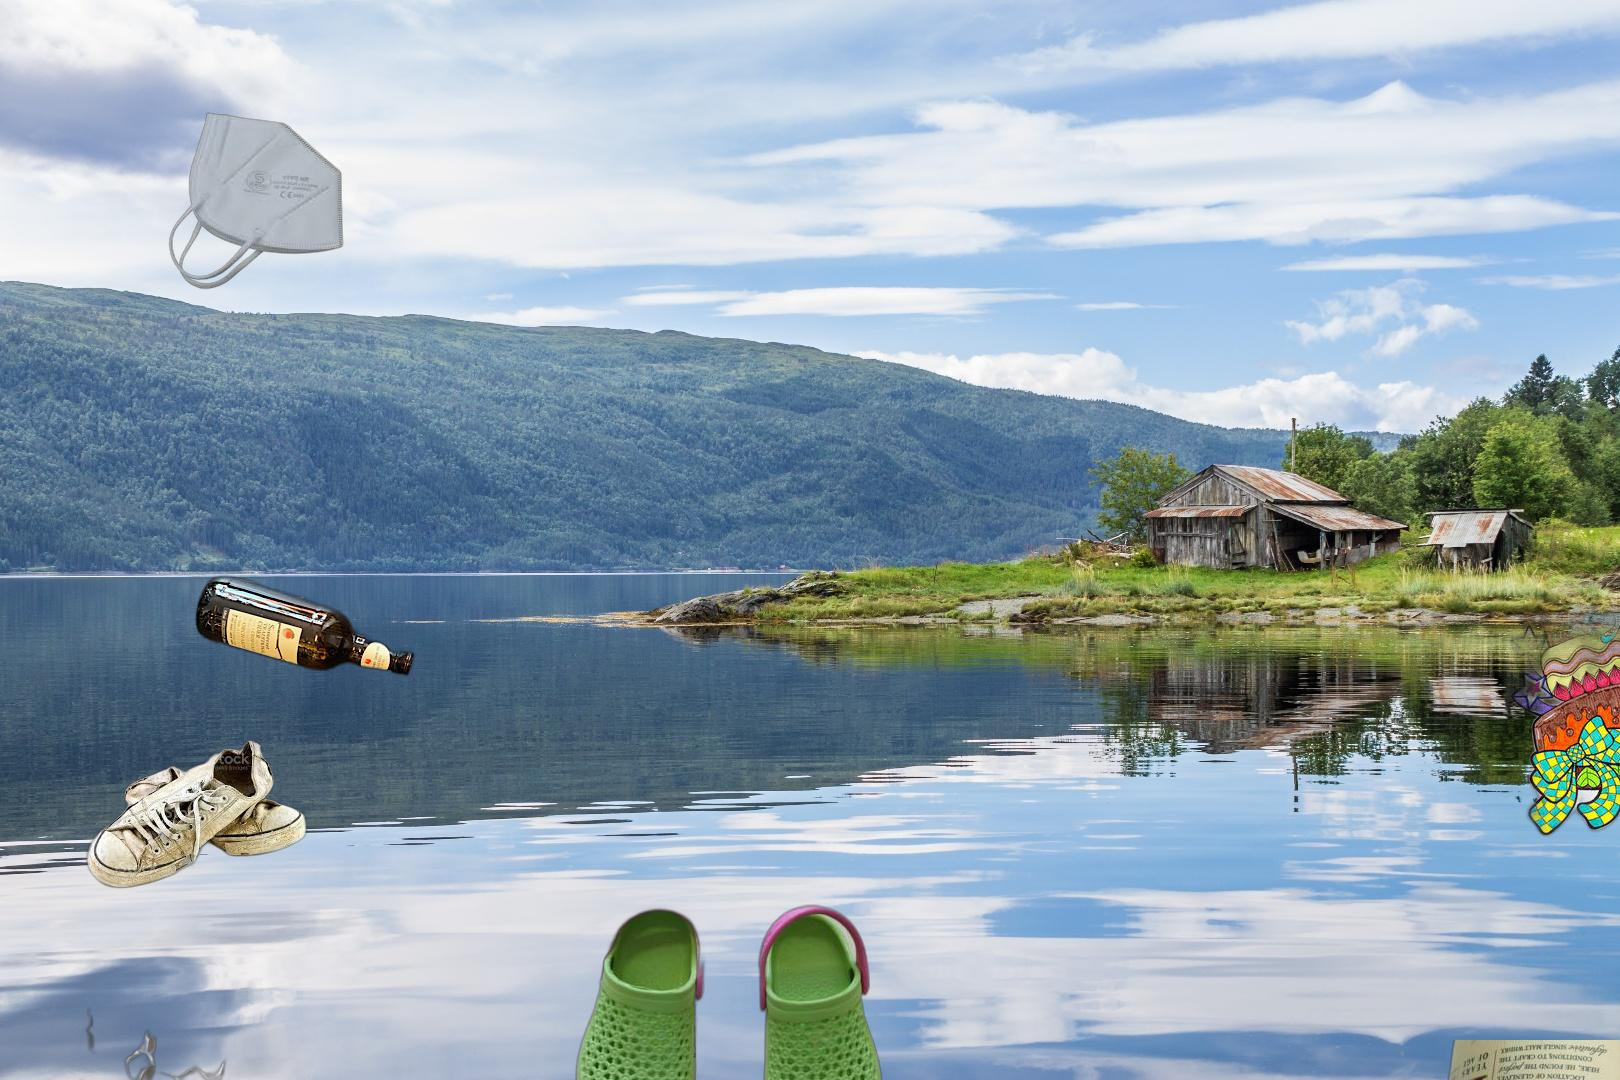glass: (190, 570, 419, 682), (1413, 1040, 1620, 1080)
paper: (71, 1004, 235, 1080)
penholder: (1254, 350, 1620, 849)
shoes: (573, 900, 886, 1080), (84, 736, 310, 891)
trash: (166, 110, 346, 292)
